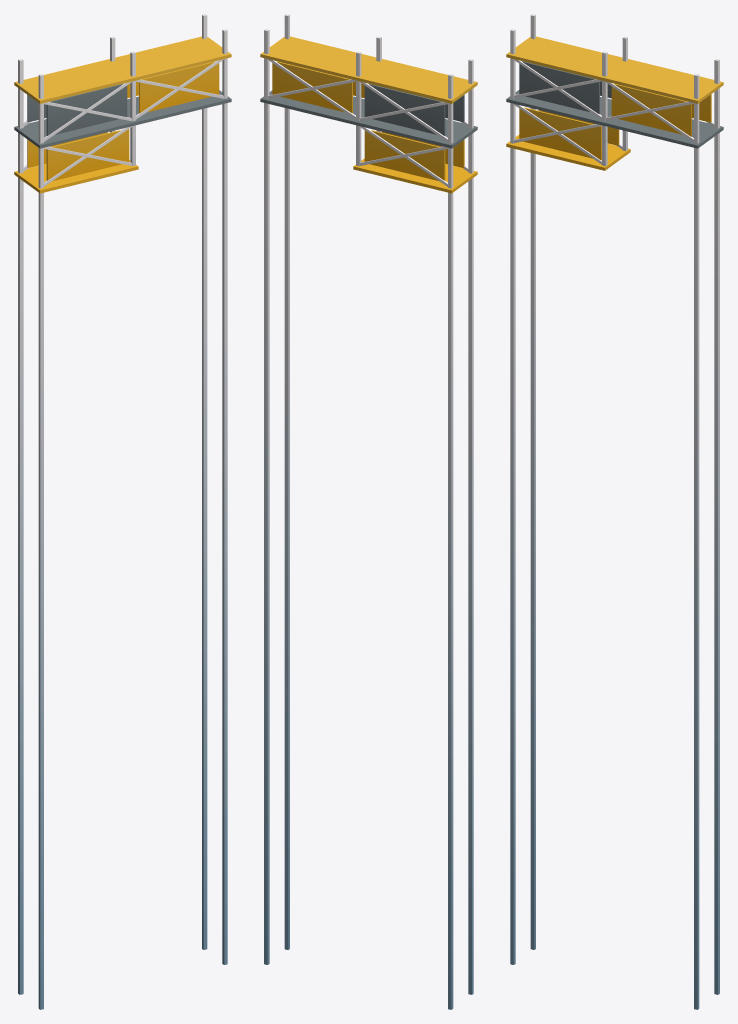
Rendered from Scaffold_1.fbx.
3 renders of one model, left to right at view 1: azimuth 30°, elevation 25°; view 2: azimuth 150°, elevation 25°; view 3: azimuth 330°, elevation 25°, orthographic.
Parts seen in each view (by area): view 1: Scaffold_1, Scaffold_Size2Part_1, TopPart_1, Scaffold_Size1Part_1; view 2: Scaffold_1, Scaffold_Size2Part_1, TopPart_1, Scaffold_Size1Part_1; view 3: Scaffold_1, Scaffold_Size2Part_1, TopPart_1, Scaffold_Size1Part_1.
Part boxes in pixels (x1,y1,x2,y2): Scaffold_1: (18, 14, 227, 1009); Scaffold_Size2Part_1: (14, 59, 231, 148); TopPart_1: (14, 36, 231, 103); Scaffold_Size1Part_1: (14, 126, 138, 193); Scaffold_1: (264, 14, 473, 1009); Scaffold_Size2Part_1: (260, 59, 477, 148); TopPart_1: (260, 36, 477, 103); Scaffold_Size1Part_1: (353, 126, 477, 193); Scaffold_1: (510, 14, 719, 1009); Scaffold_Size2Part_1: (506, 59, 723, 148); TopPart_1: (506, 36, 723, 103); Scaffold_Size1Part_1: (506, 104, 630, 170).
Bounding box in the file's own units: 863 × 4025 × 200.
